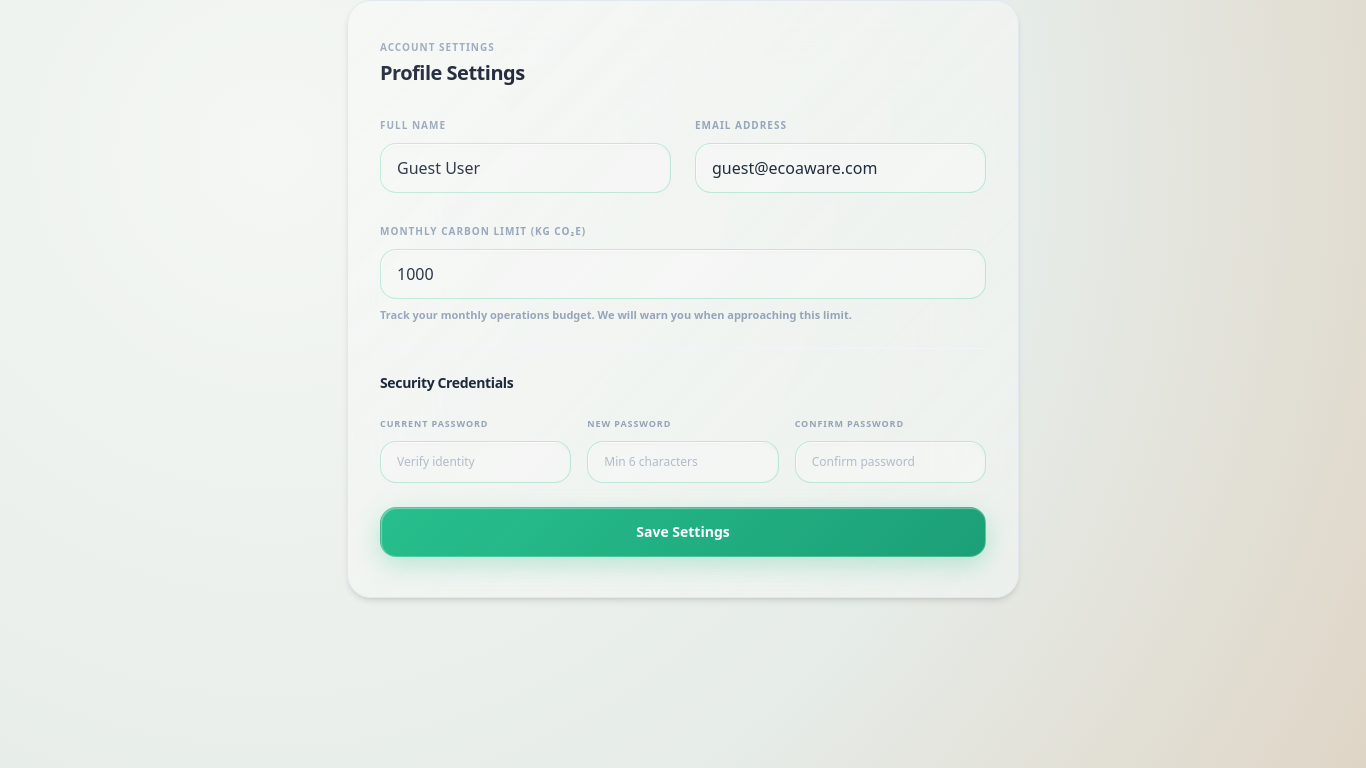
Test case: SettingsPage Component › validates matching passwords during security rotations
Type "oldpassword" into the password field with placeholder "Verify identity" at (476, 462), box [380,440,571,482]
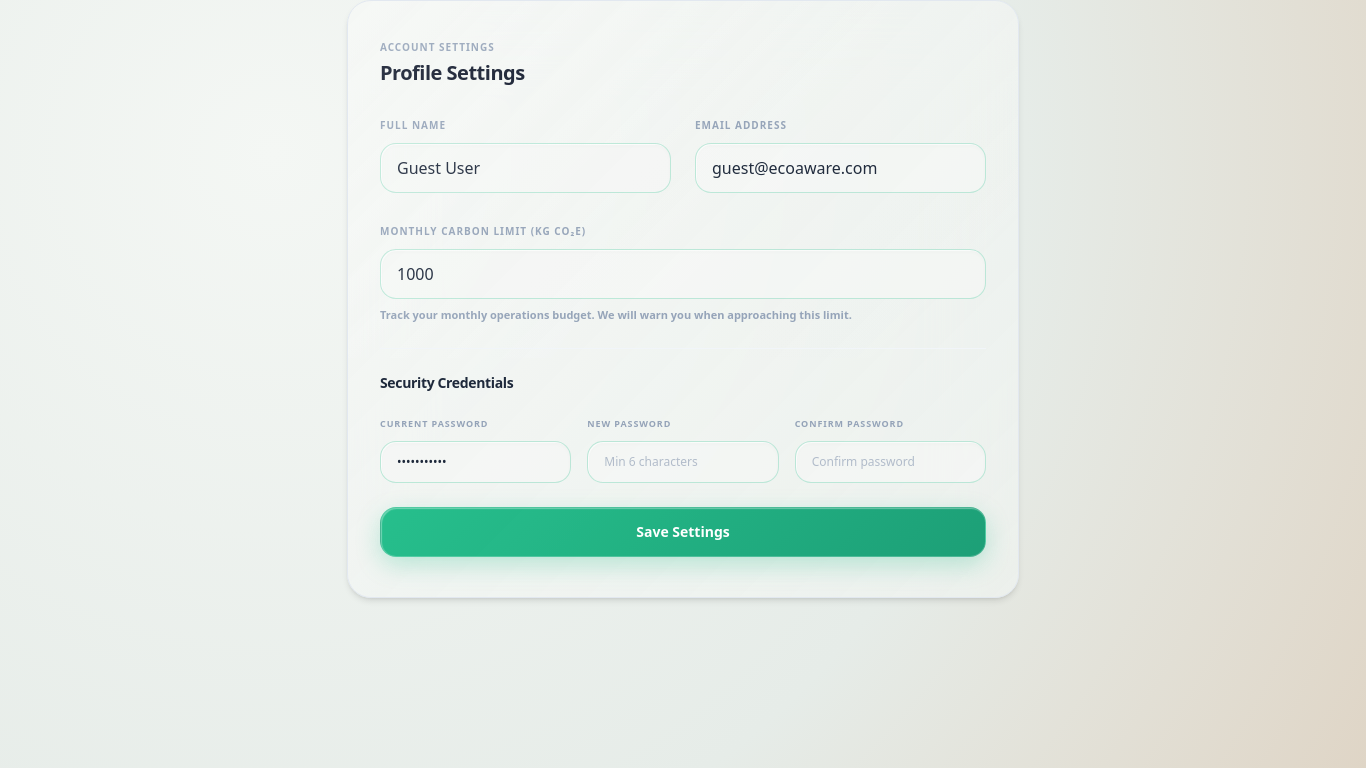
Type "newpassword1" into the password field with placeholder "Min 6 characters" at (683, 462), box [587,440,779,482]
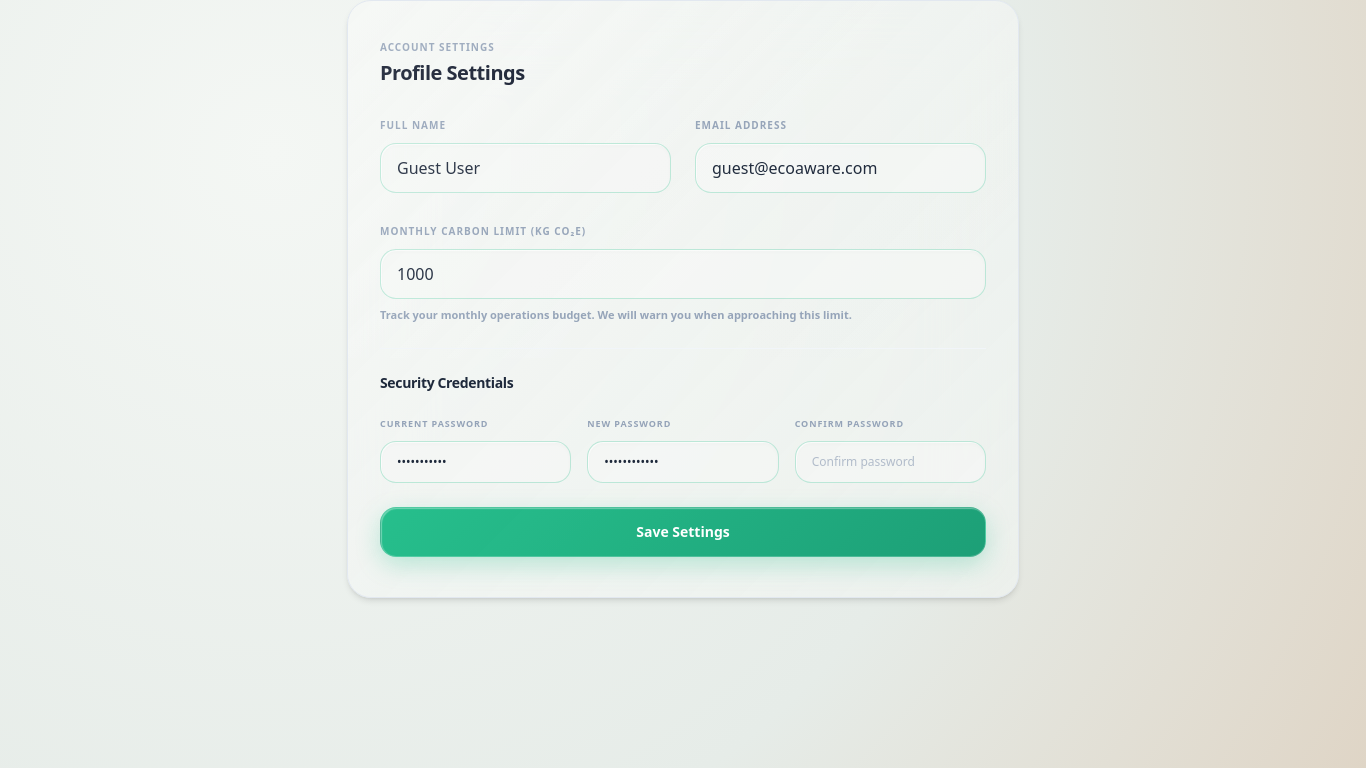
Type "newpassword2" into the password field with placeholder "Confirm password" at (890, 462), box [795,440,986,482]
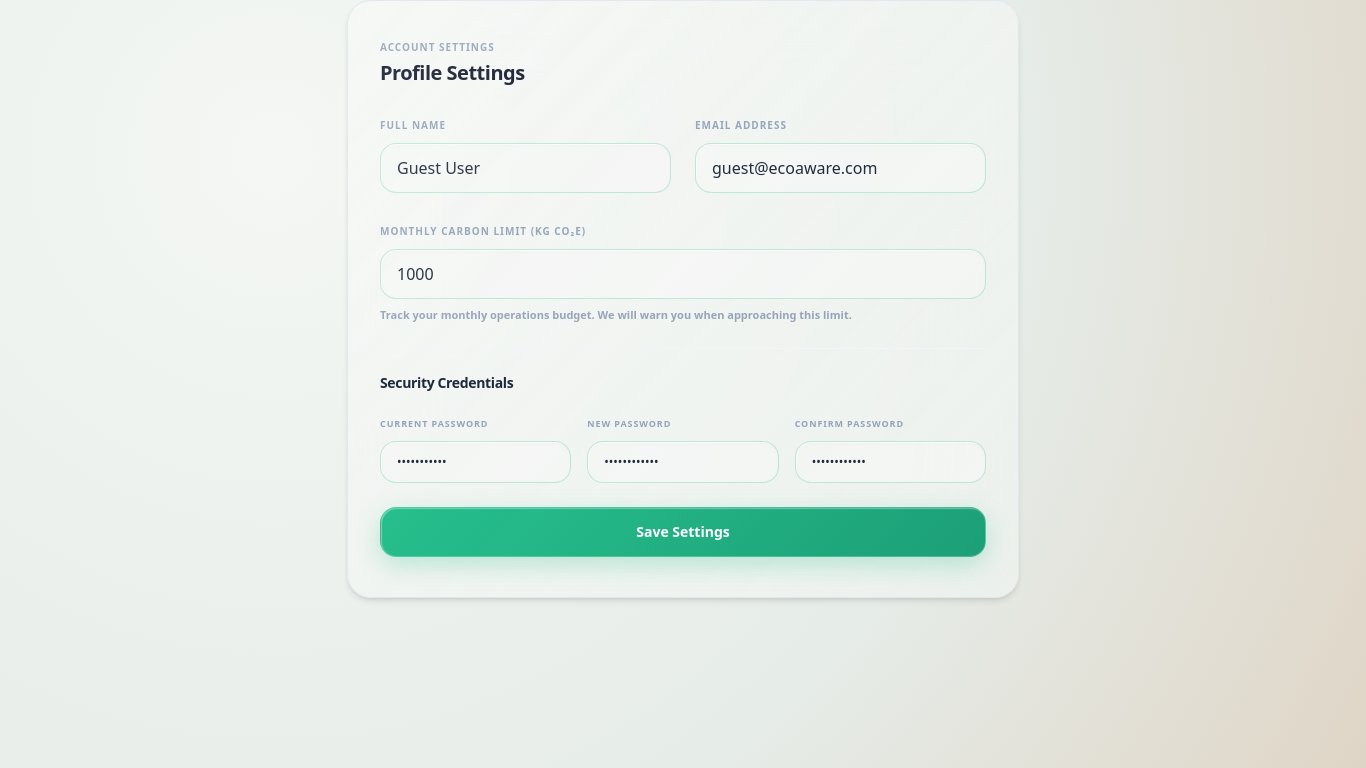
Click the button "Save Settings" at (683, 532), box [380,506,986,556]
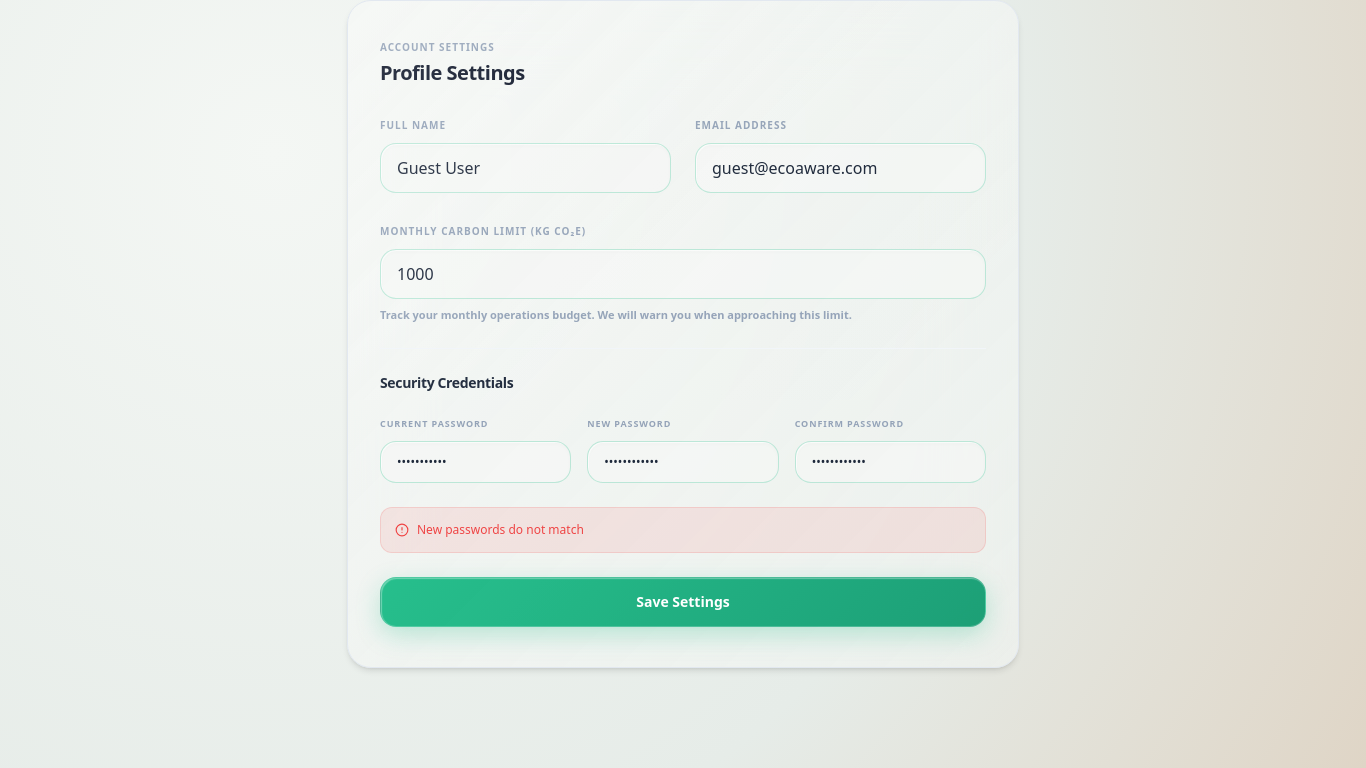
Now the text "New passwords do not match" is shown, box [417,522,584,538]
